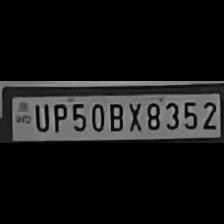0: (88, 101, 104, 133)
2: (198, 97, 218, 130)
3: (162, 99, 180, 131)
5: (68, 100, 88, 132), (180, 97, 198, 130)
8: (142, 100, 162, 132)
B: (106, 101, 126, 133)
P: (49, 101, 67, 133)
U: (31, 100, 50, 132)
X: (125, 100, 142, 132)
